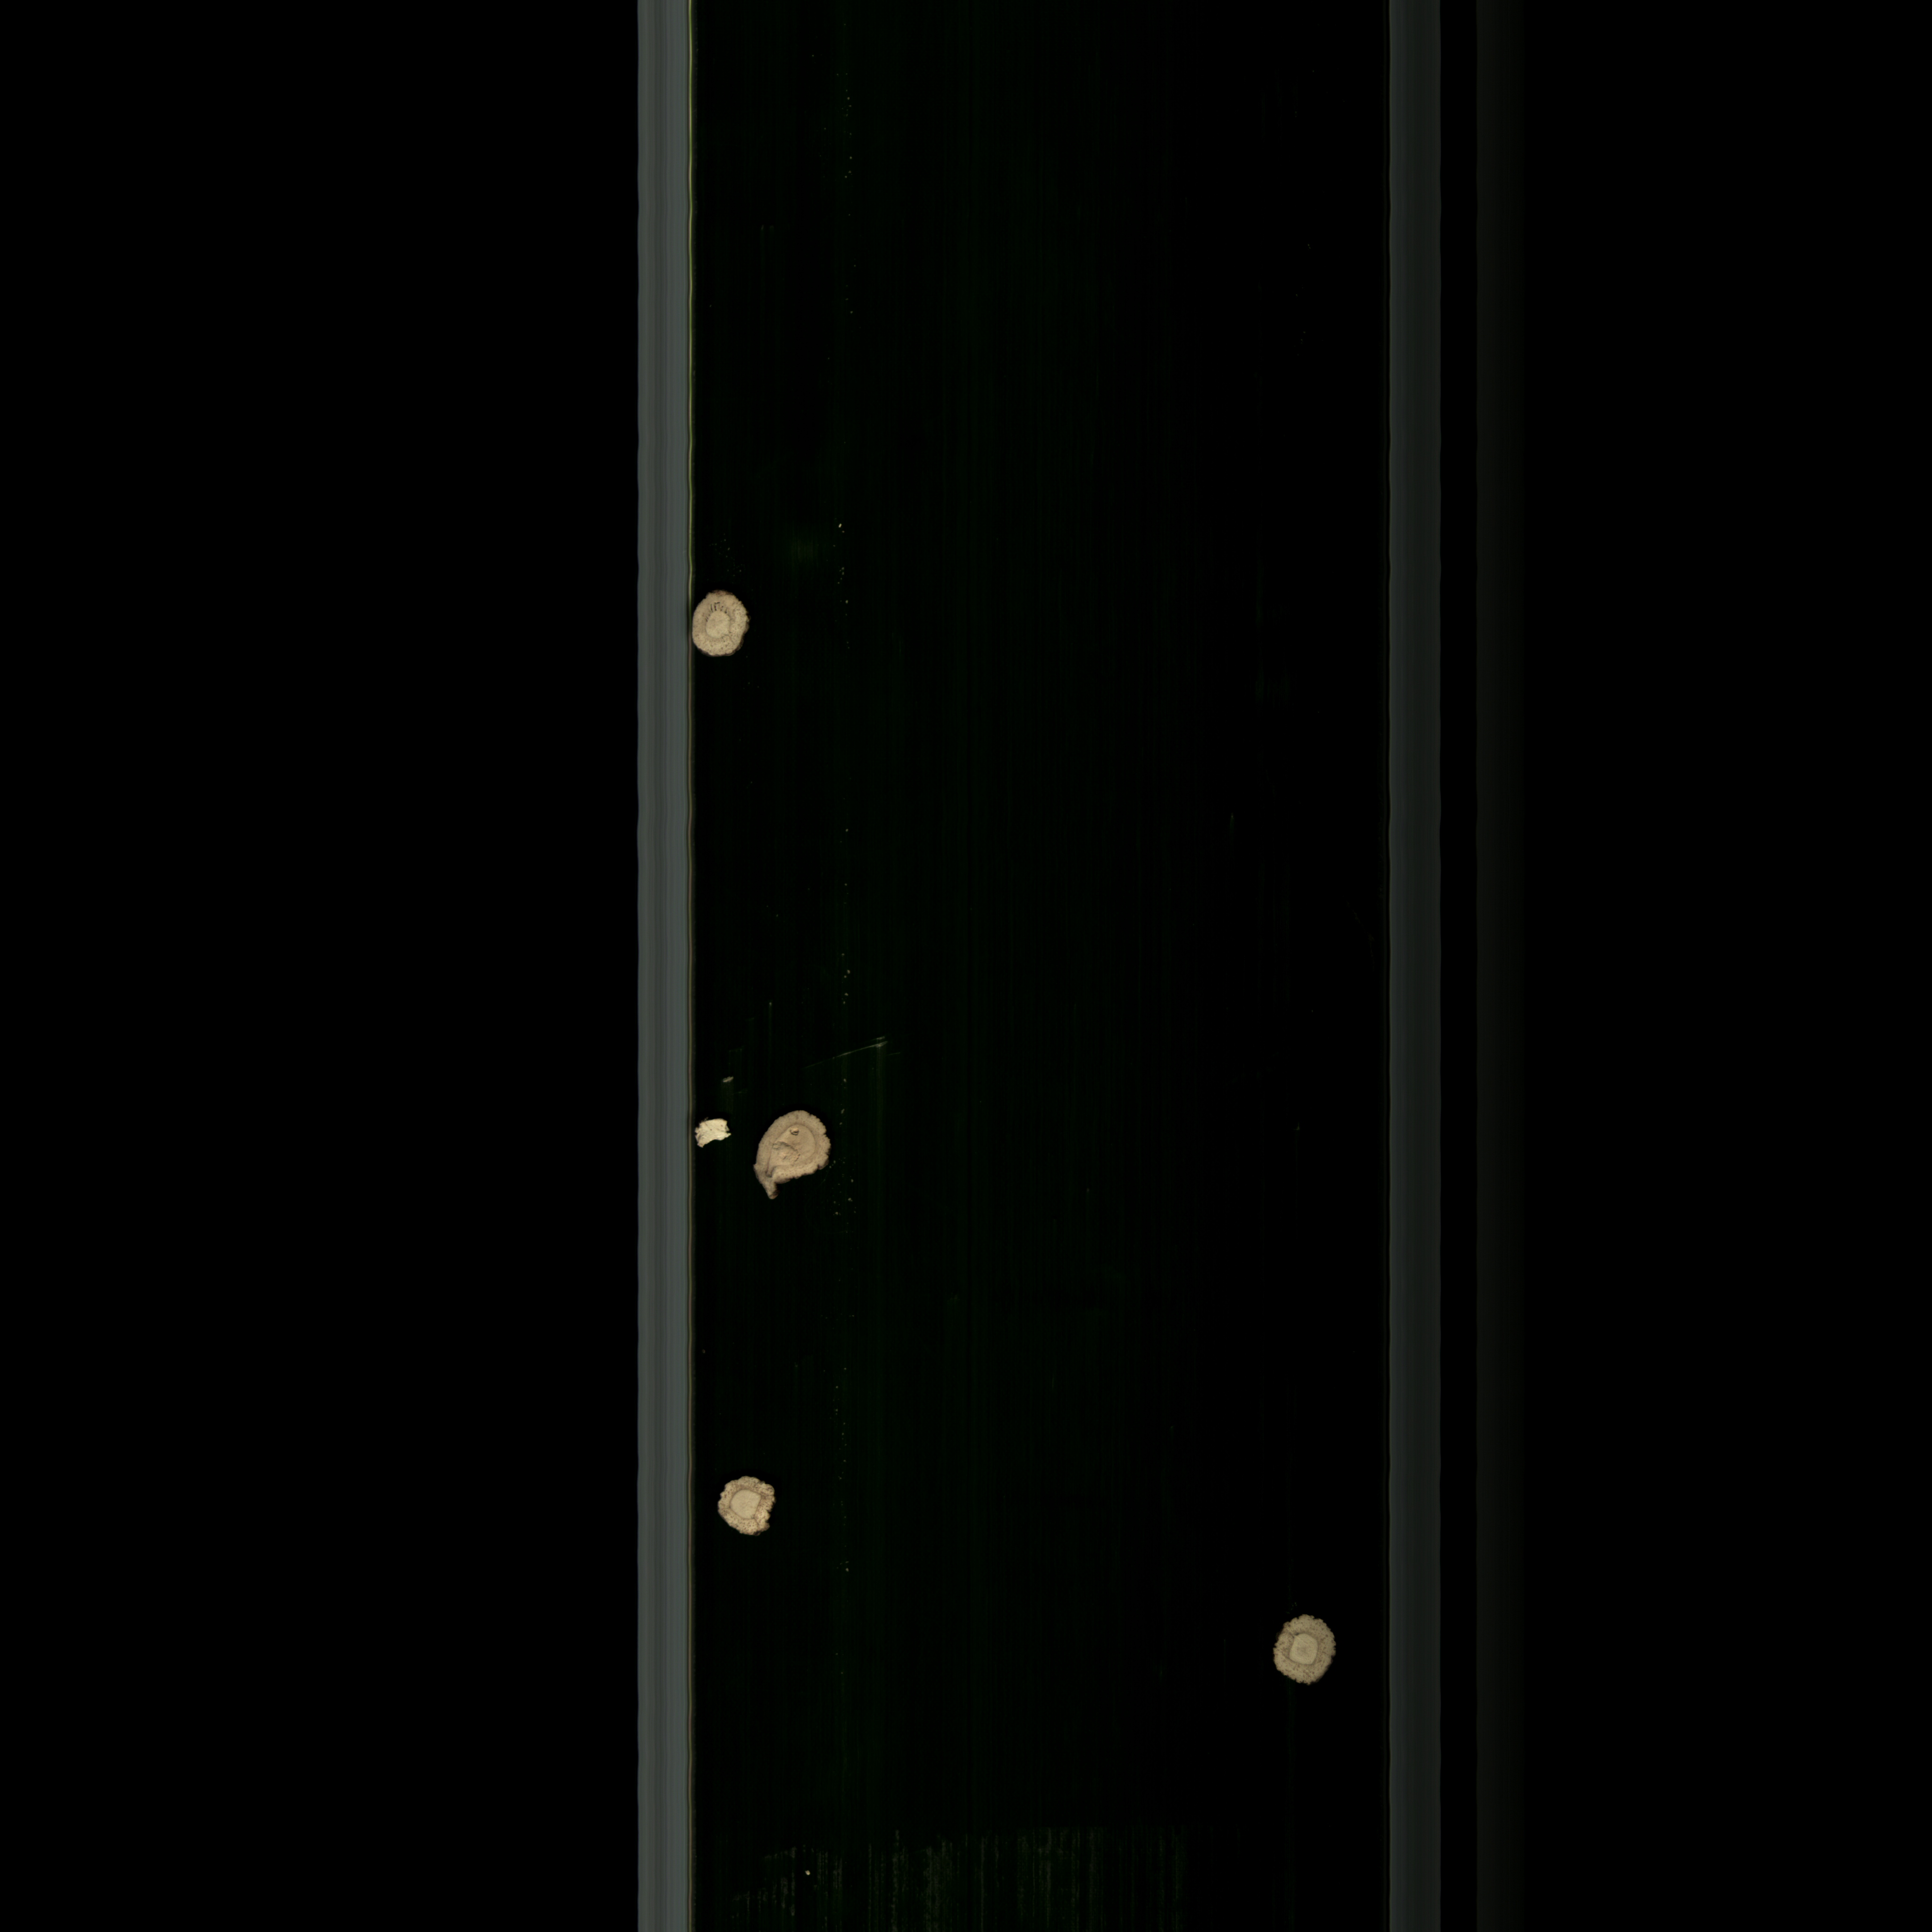distortion: (745, 1108, 865, 1205), (701, 1460, 786, 1550)
dreg: (692, 1113, 748, 1152)
hole: (690, 586, 755, 669)
